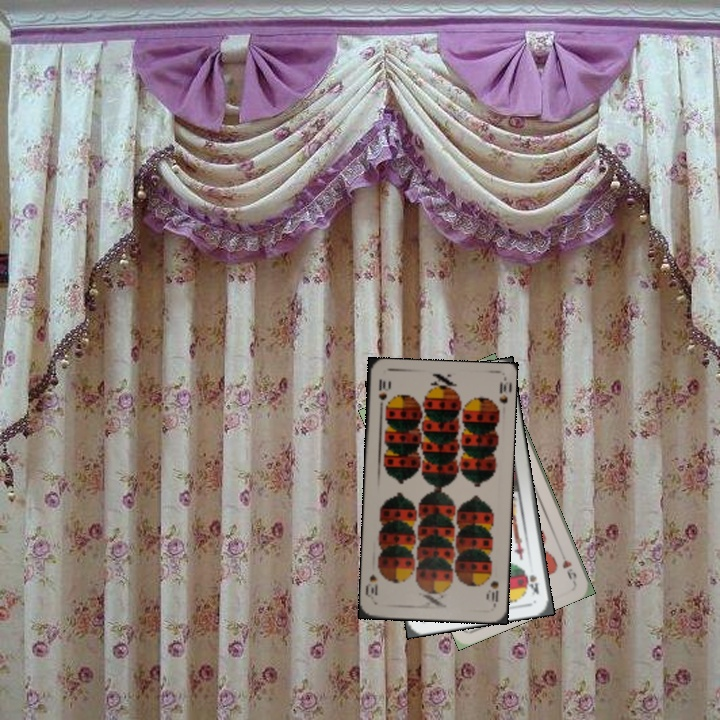H9: (556, 546, 579, 585)
S10: (374, 375, 391, 414), (484, 577, 501, 607)
SK: (523, 569, 541, 597)
